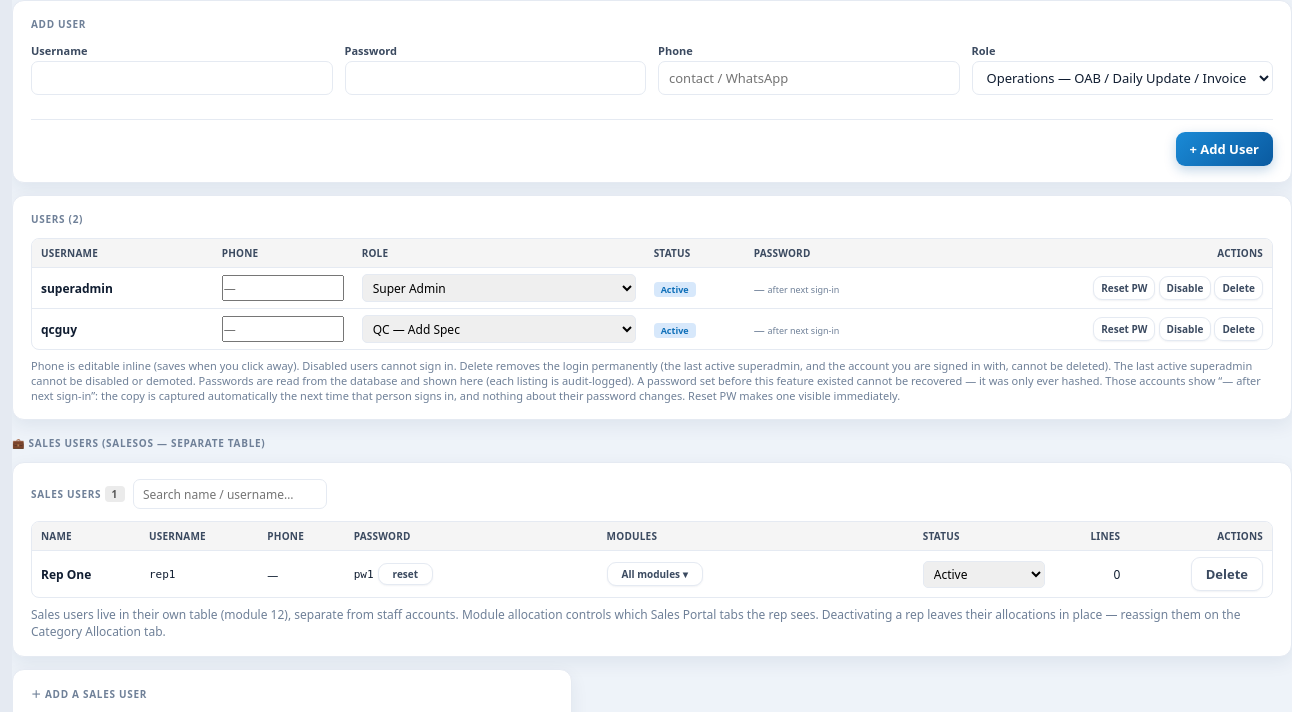
Test case: Users & Access › lists users and adds a new one via the admin API
This screenshot has width=1292, height=712.
Expected: the text "superadmin" is shown, [32,268,213,308]
Expected: the text "qcguy" is shown, [32,308,213,349]
Type "newbie" into the 1st field. click: (182, 78)
box: [31,61,332,95]
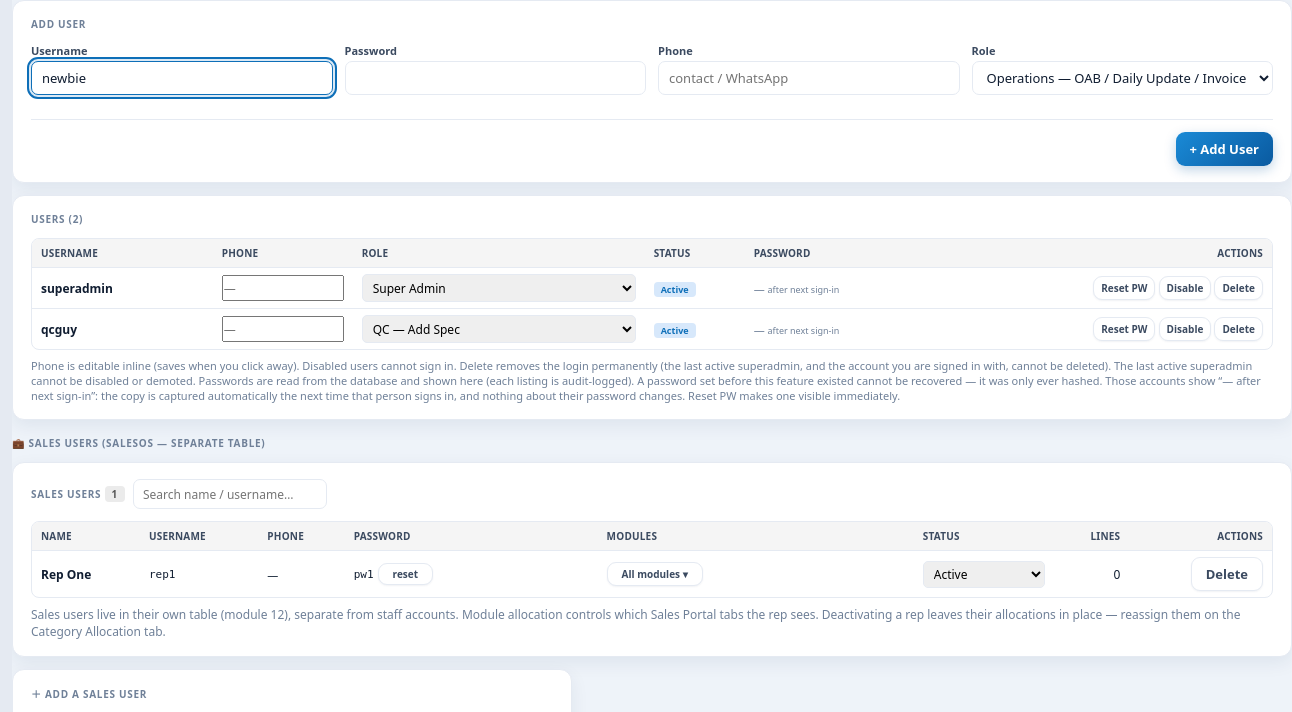
Type "pw@123" into the password field. click: (495, 78)
box: [344,61,646,95]
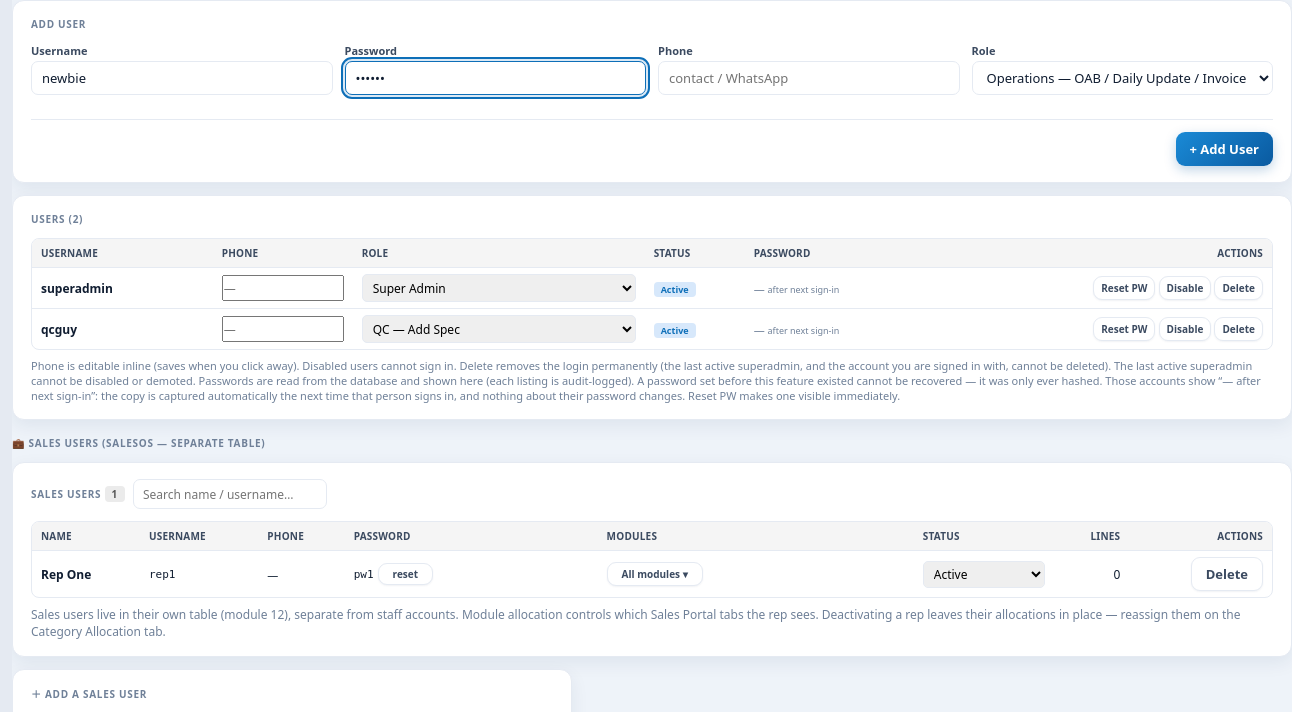
Click the button "+ Add User". click: (1224, 149)
box: [1176,132,1273,166]
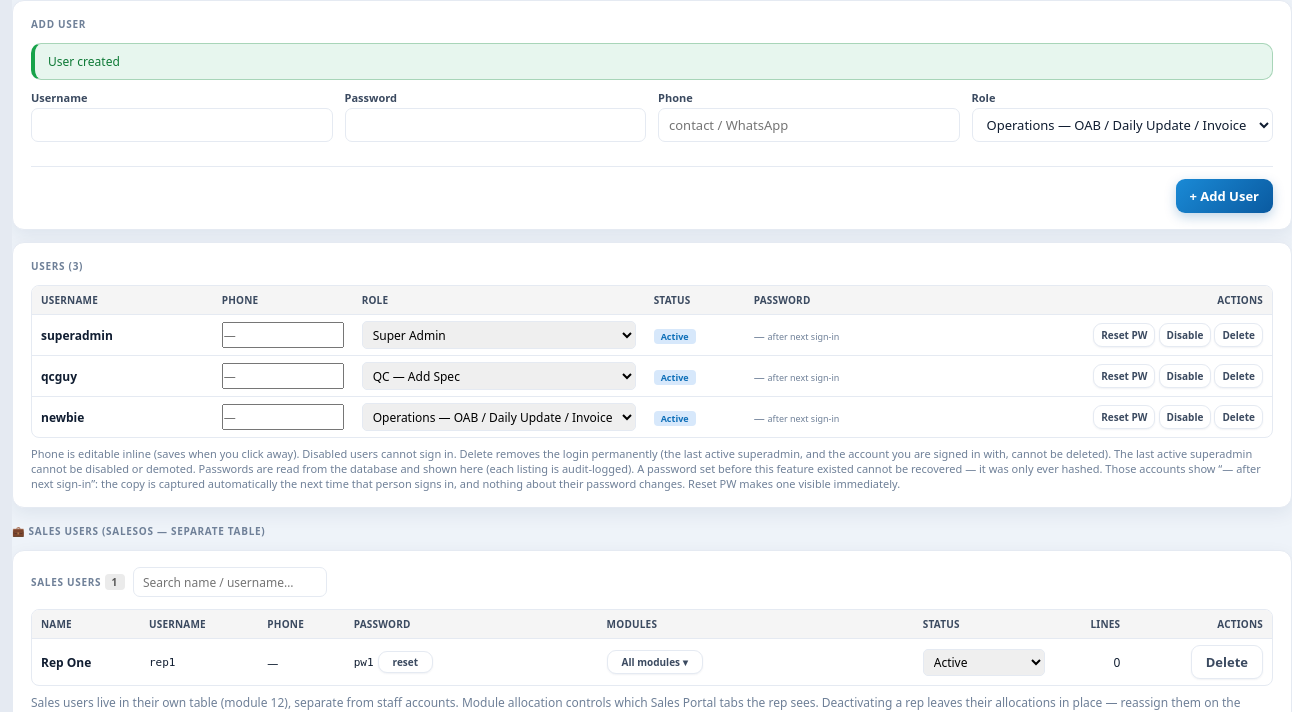
Result: the text "newbie" is shown at [32,396,213,437]
